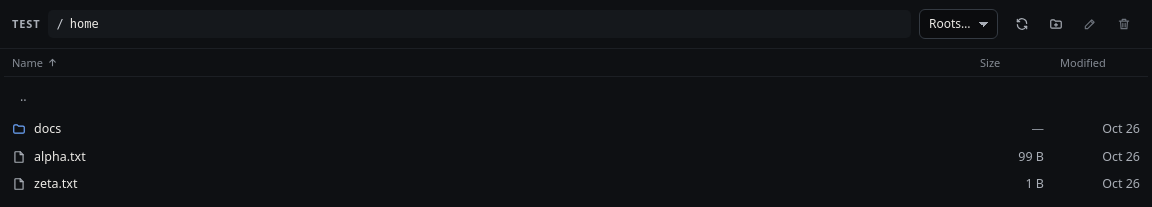
Test case: FilePane › navigates into a directory on double click and back to the parent folder
Double-click the text "docs": [37, 129] box [12,120,61,137]
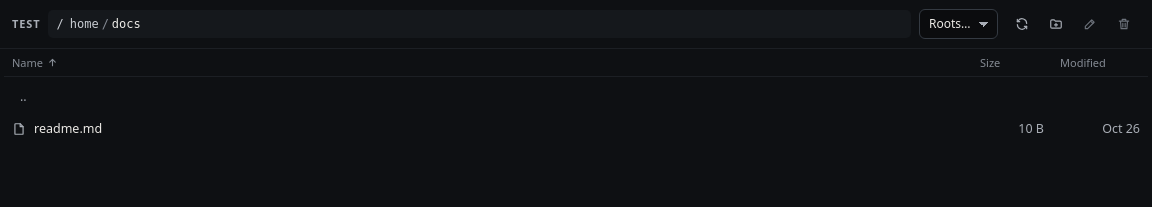
Check: the text "readme.md" is shown, box [12,120,102,137]
Click the button named "Parent folder": [23, 96] box [12,82,1140,110]
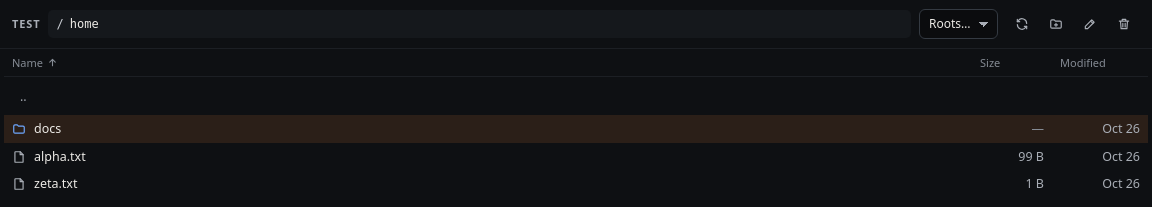
Check: the text "alpha.txt" is shown, box [12,148,86,165]
